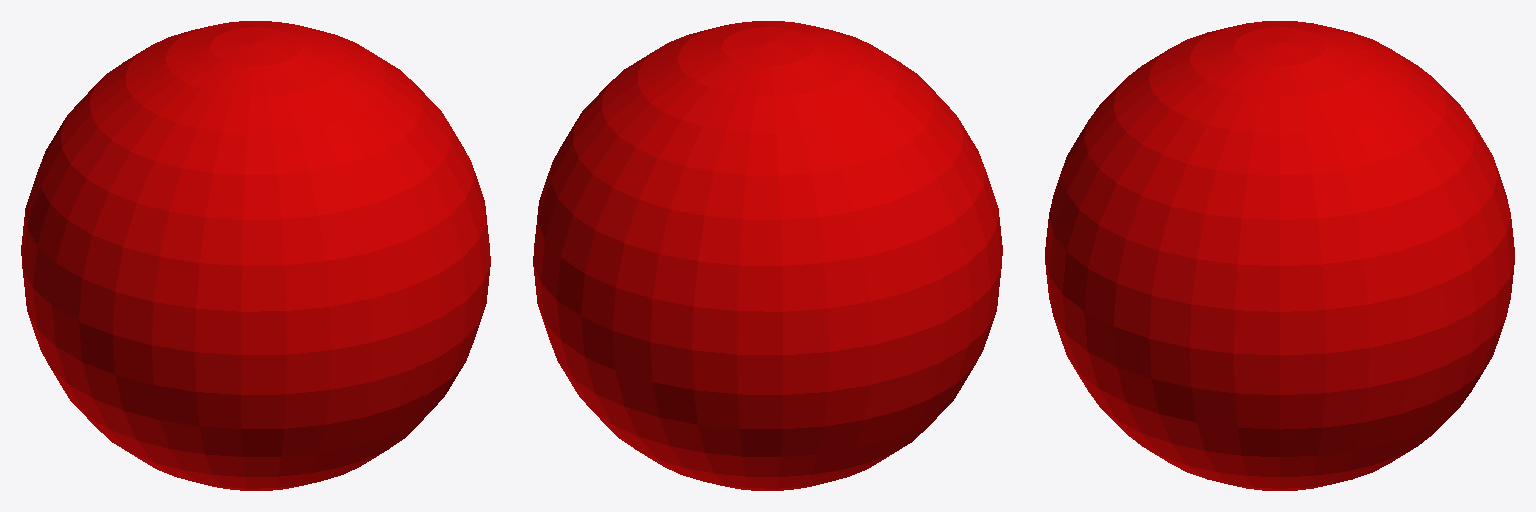
File: ball.obj
The picture shows the model from 3 angles: view 1: azimuth 30°, elevation 25°; view 2: azimuth 150°, elevation 25°; view 3: azimuth 270°, elevation 25°; orthographic projection.
Parts seen in each view (by area): view 1: 球体; view 2: 球体; view 3: 球体.
Part boxes in pixels (x1,y1,x2,y2): 球体: (21, 21, 490, 490); 球体: (533, 21, 1002, 490); 球体: (1045, 21, 1514, 490).
Bounding box in the file's own units: 2 × 2 × 2.